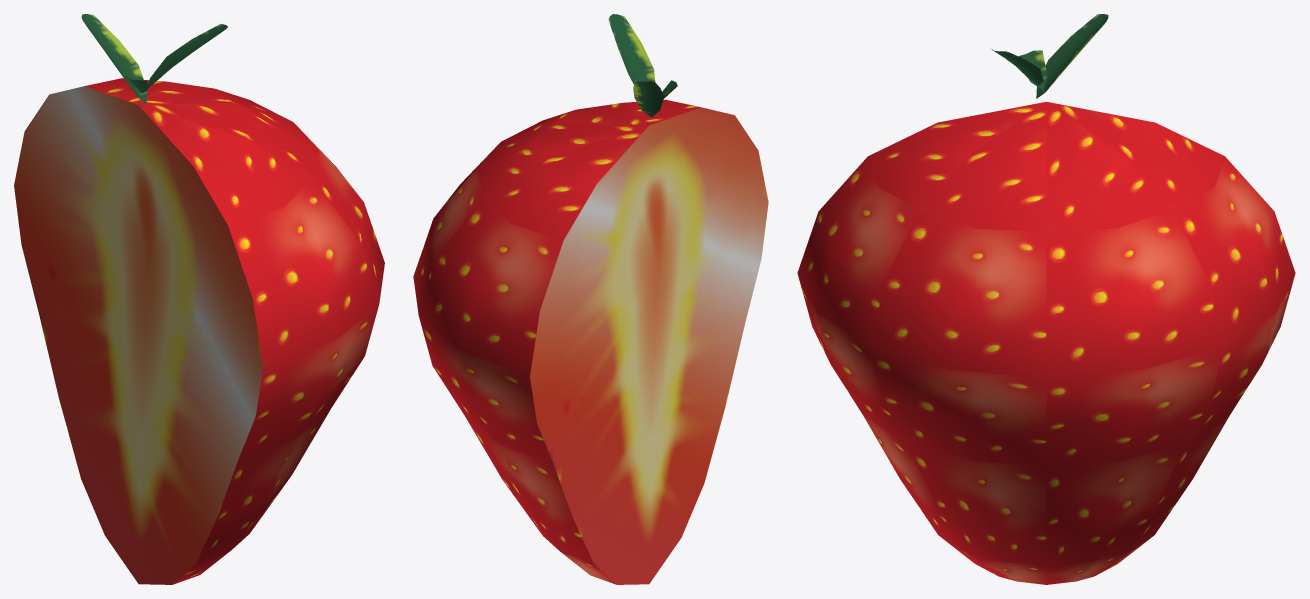
Rendered from StrawberryS.FBX.
3 renders of one model, left to right at view 1: azimuth 30°, elevation 25°; view 2: azimuth 150°, elevation 25°; view 3: azimuth 270°, elevation 25°, orthographic. The views are drawn at different scales.
Visible parts, largest first — view 1: StrawberryS; view 2: StrawberryS; view 3: StrawberryS.
Part boxes in pixels (x1,y1,x2,y2): StrawberryS: [14, 14, 384, 584]; StrawberryS: [413, 14, 768, 584]; StrawberryS: [797, 14, 1295, 584].
Bounding box in the file's own units: 6.58 × 14.32 × 11.54.
